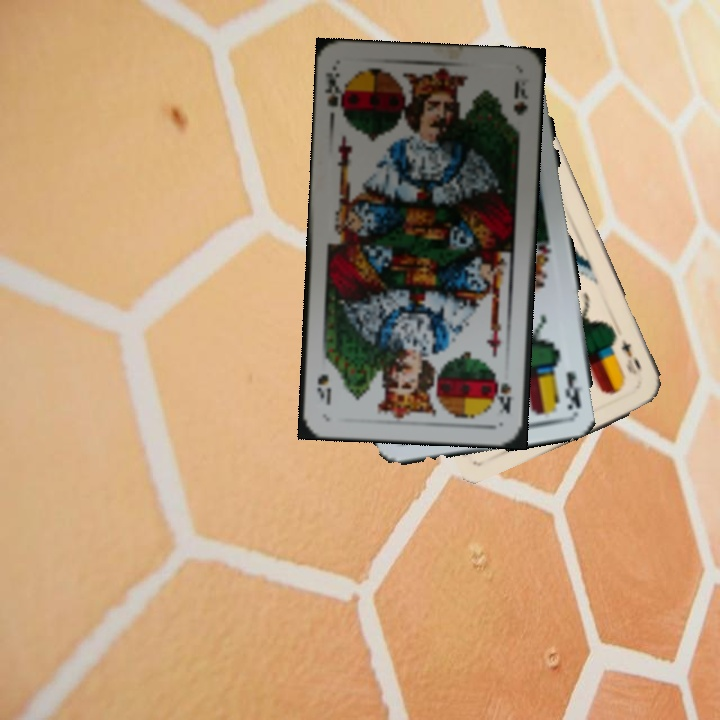EK: (561, 368, 583, 412)
EO: (617, 336, 644, 377)
SK: (321, 64, 349, 120), (493, 375, 514, 416)
